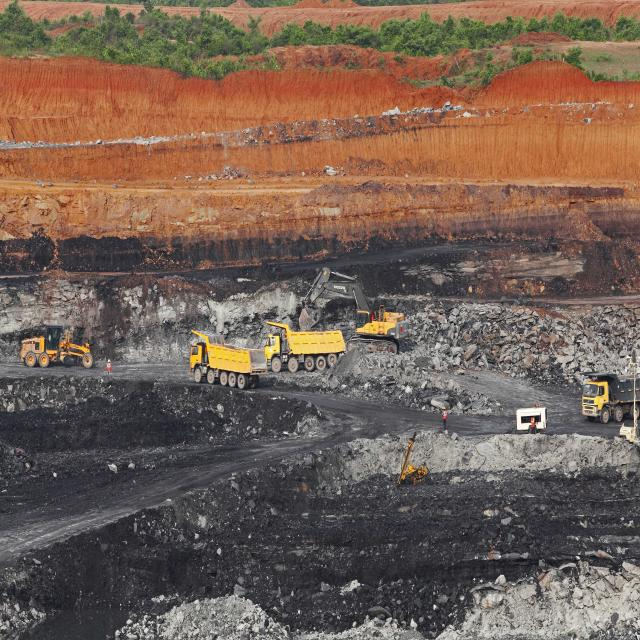buldozerpayloadergrader: (14, 314, 94, 374)
dump_truck: (180, 322, 268, 402), (263, 315, 344, 375), (577, 361, 640, 432)
excavator: (291, 257, 414, 331)
